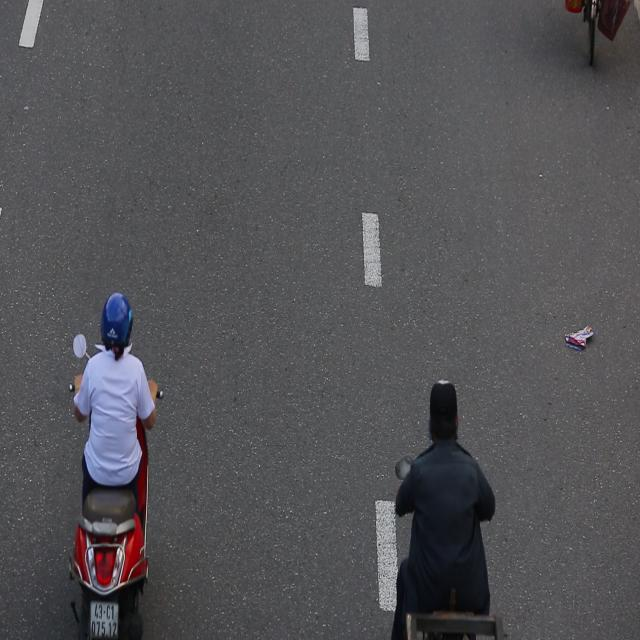motorbike: (63, 275, 171, 640)
